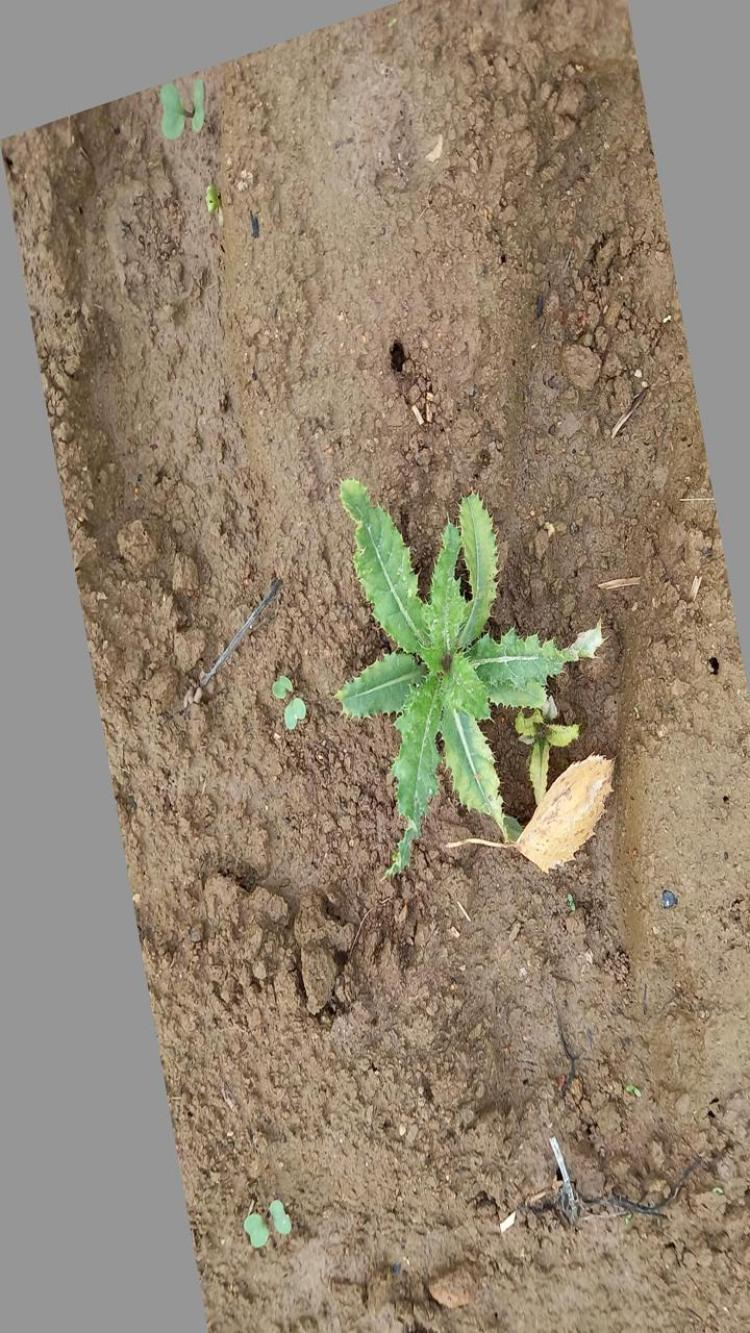bodyak: (333, 479, 596, 869)
